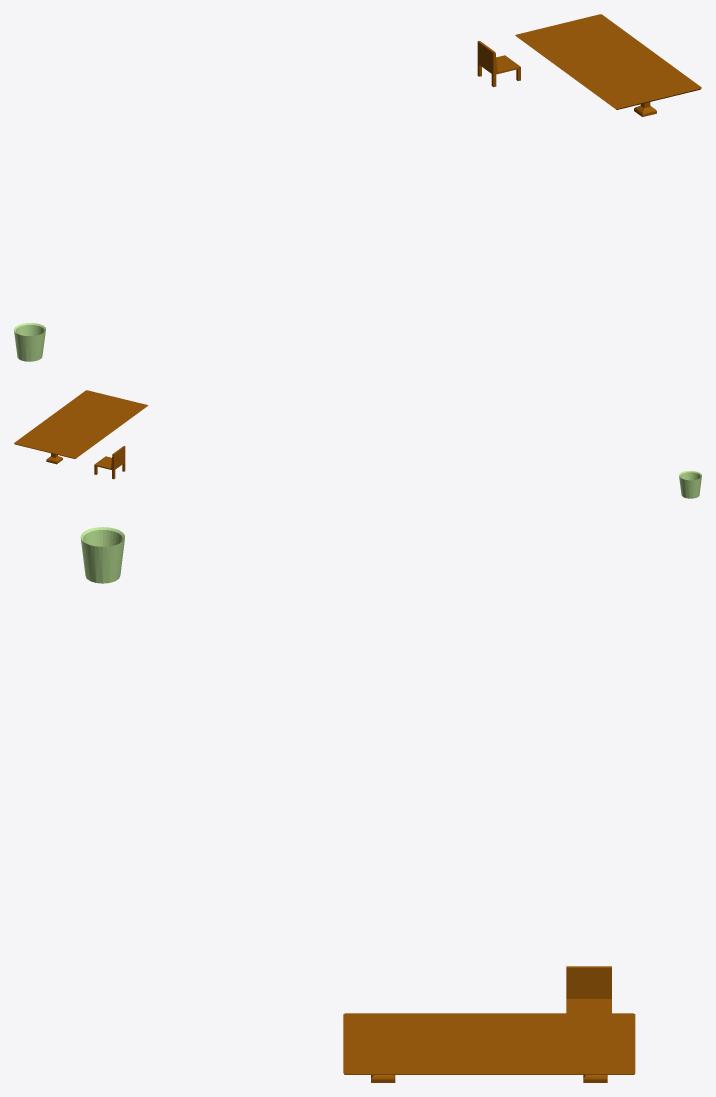
Rendered from Props.fbx.
3 views of the same model, one above another, from view 1: azimuth 30°, elevation 25°; view 2: azimuth 150°, elevation 25°; view 3: azimuth 270°, elevation 25° (orthographic). The views are drawn at different scales.
Parts seen in each view (by area): view 1: Long Table, Trash Can, Chair; view 2: Long Table, Trash Can, Chair; view 3: Long Table, Chair, Trash Can.
Part boxes in pixels (x1,y1,x2,y2): Long Table: (515,14,701,116); Trash Can: (14,323,45,361); Chair: (477,41,520,87); Long Table: (14,390,147,464); Trash Can: (679,470,701,498); Chair: (94,446,125,479); Long Table: (343,1013,635,1082); Chair: (566,966,611,1013); Trash Can: (80,527,124,583).
Size of the model in its own units: 2829 by 121 by 1227.
